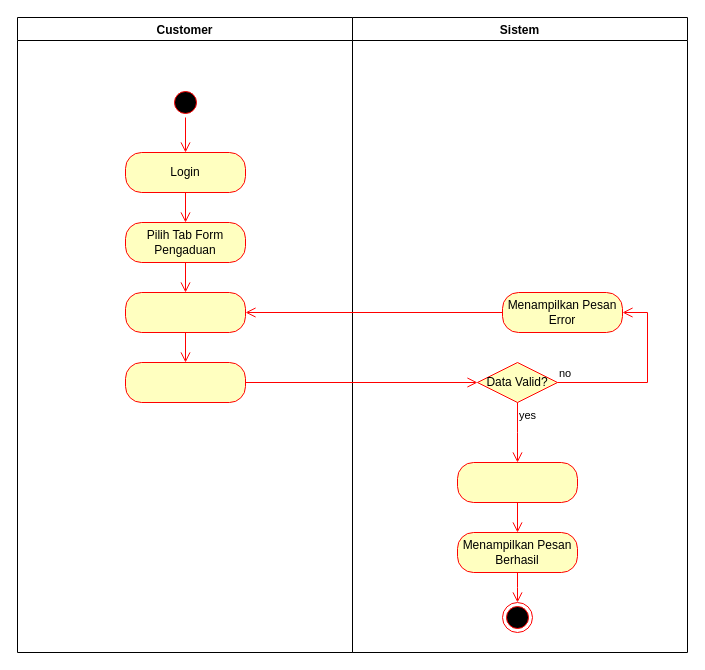
Image size: 705x670. Some labels were removed from this diagram. The centre of each missing label's shape, as x and y in pixels:
Isi Data Pengaduan: point 185,312
Konfirmasi: point 185,382
Menyimpan Data: point 517,482
